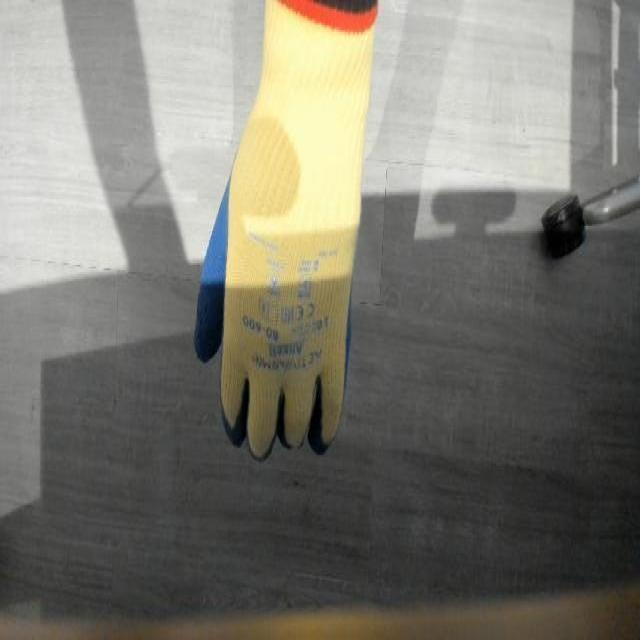Guantes: (191, 0, 379, 461)
